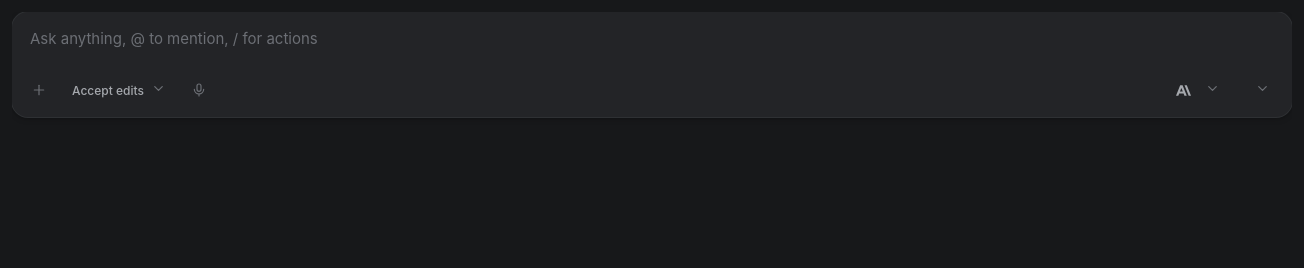
Test: Composer + menu Browser (F4 Task 10) › clicking Browser inserts the /browser command chip and closes the menu
Click the button named "Add context" at (39, 90), box left=24, top=75, right=54, bottom=105
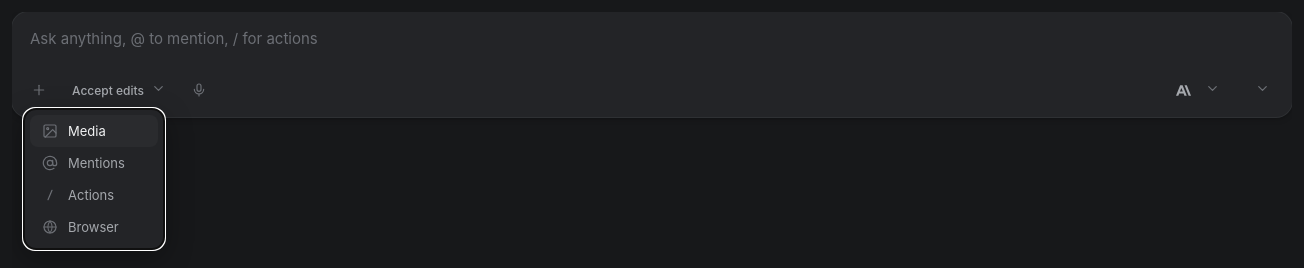
Click the text "Browser" at (93, 227), box left=68, top=219, right=119, bottom=235
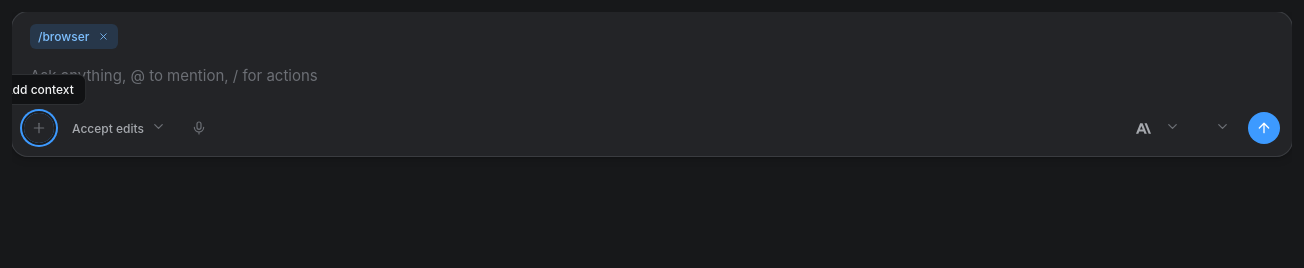
expect the text "/browser" is shown: met, box left=30, top=24, right=118, bottom=49
